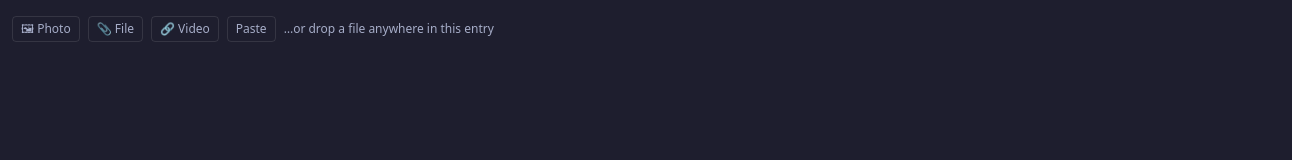
Test case: JournalAttachments › paste and drop › the Paste button › reports a clipboard the browser refuses to read
The width and height of the screenshot is (1292, 160).
Click the button "Paste" at {"x": 251, "y": 29}, box top-left (227, 16), bottom-right (276, 42)
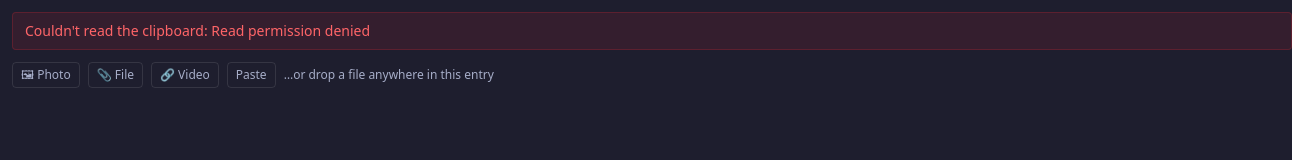
Now the text "Couldn't read the clipboard: Read permission denied" is shown, box top-left (12, 12), bottom-right (1291, 50)
